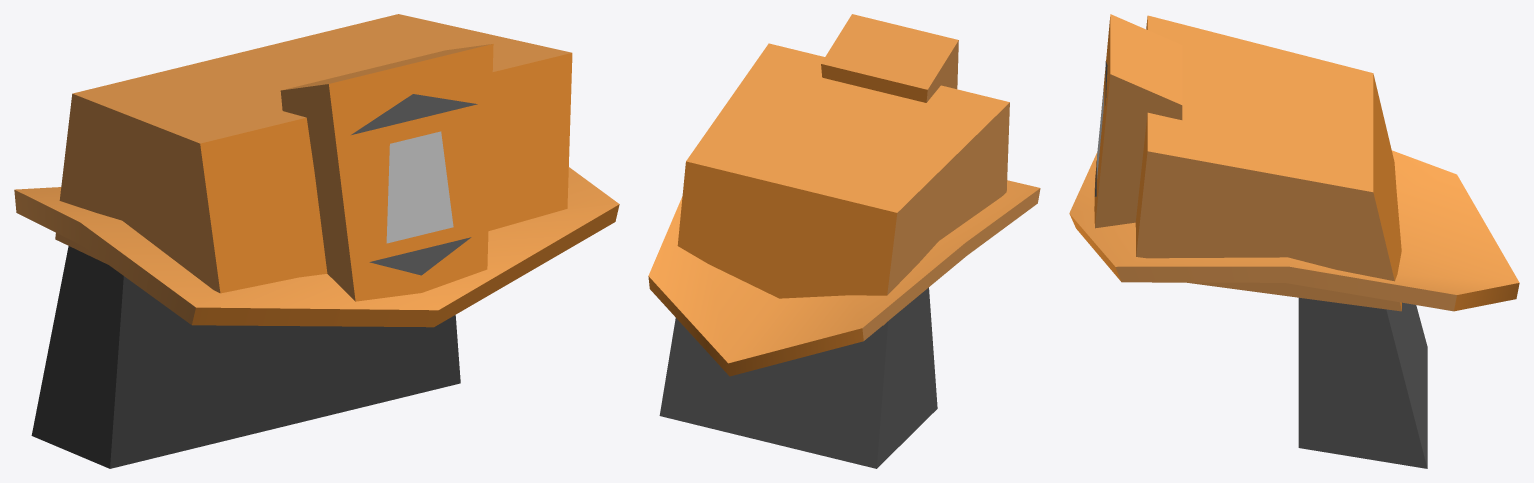
The model's file is Item_Helmet00.FBX.
3 renders of one model, left to right at view 1: azimuth 30°, elevation 25°; view 2: azimuth 150°, elevation 25°; view 3: azimuth 270°, elevation 25°, orthographic. The views are drawn at different scales.
Visible parts, largest first — view 1: Item_Helmet00; view 2: Item_Helmet00; view 3: Item_Helmet00.
Part boxes in pixels (x1,y1,x2,y2): Item_Helmet00: [14, 14, 619, 468]; Item_Helmet00: [648, 14, 1040, 468]; Item_Helmet00: [1069, 14, 1519, 468].
Bounding box in the file's own units: 50.45 × 55.32 × 62.08.
